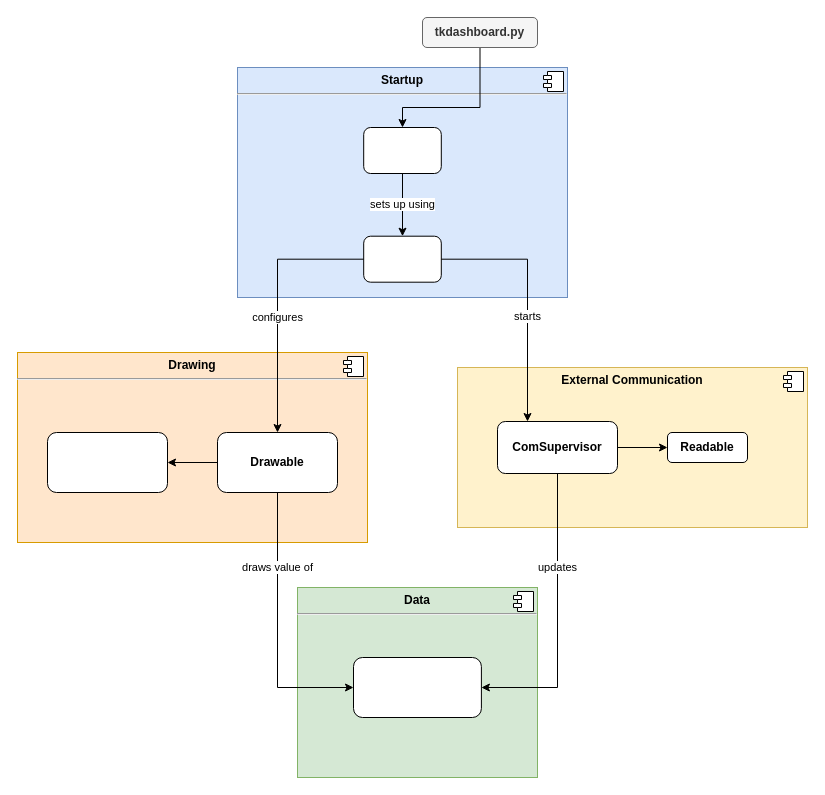
The diagram is 825 pixels wide and 795 high, and some of its shapes have lost their labels. Here are the shapes that lost their labels. From the top down, the box of each, then its label:
(363, 126, 441, 174): Setup
(363, 235, 441, 282): Config
(46, 432, 168, 492): Painter
(352, 656, 481, 718): WatchableVariable
